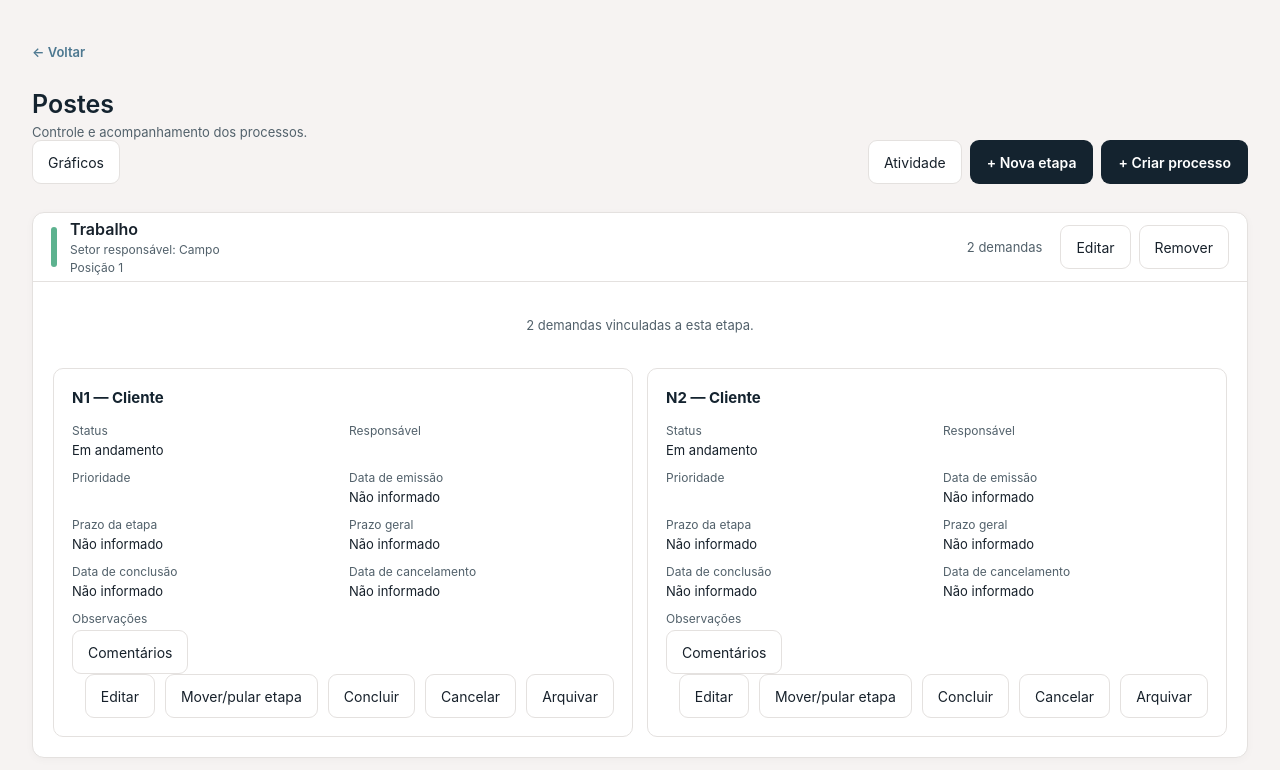
Test: GRAF-04/05/06: ação atualiza totais; conflito oculta os números até nova consulta
The width and height of the screenshot is (1280, 770).
Click the button "Gráficos": (76, 162) top-left (32, 140), bottom-right (120, 184)
(page scrolled)
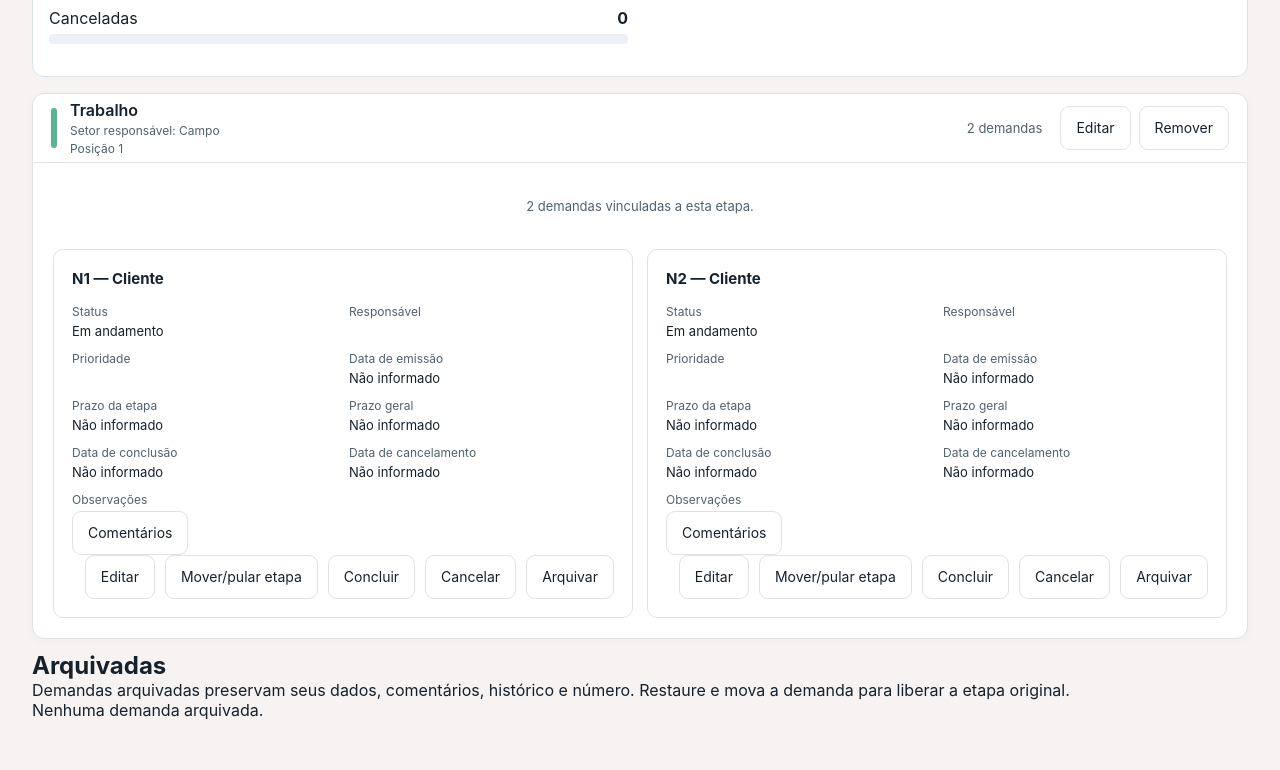
Click the button with aria-label "Arquivar demanda N1": (570, 577) top-left (526, 555), bottom-right (614, 599)
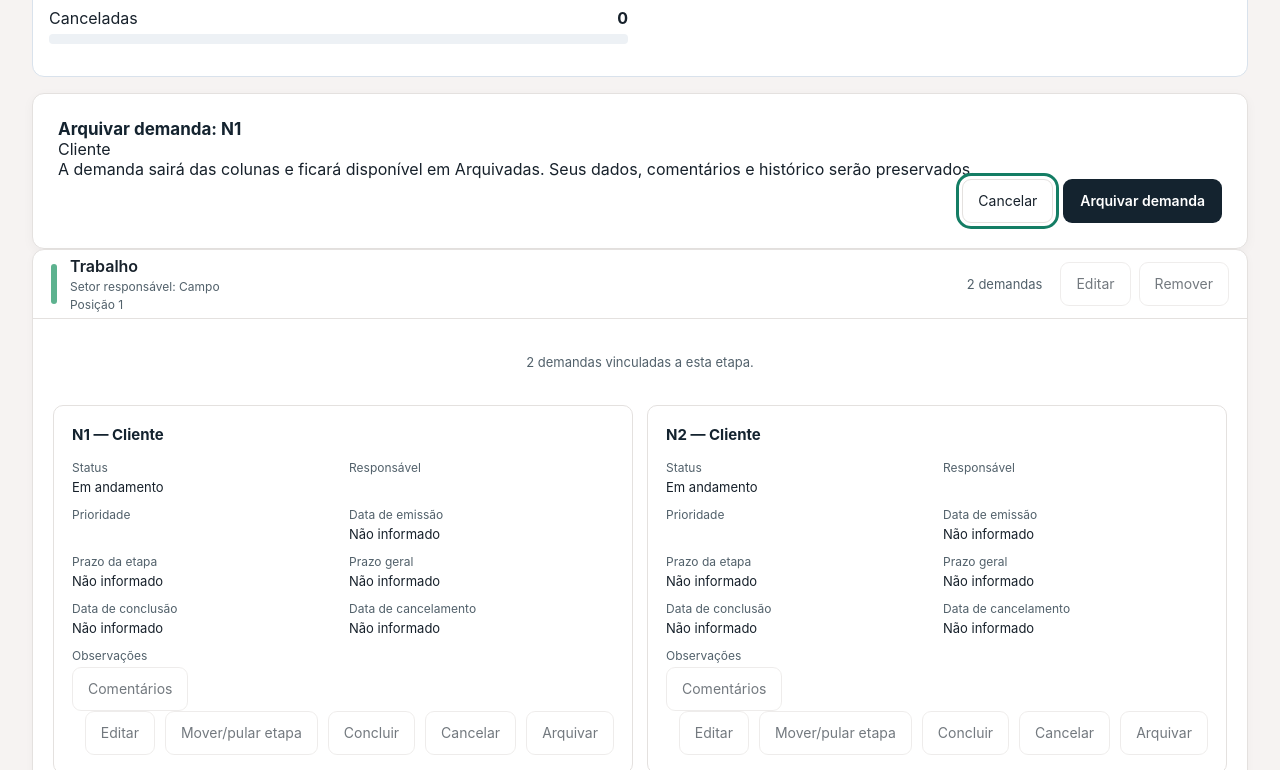
Click the button "Arquivar demanda": (1143, 201) top-left (1063, 179), bottom-right (1222, 223)
(page scrolled)
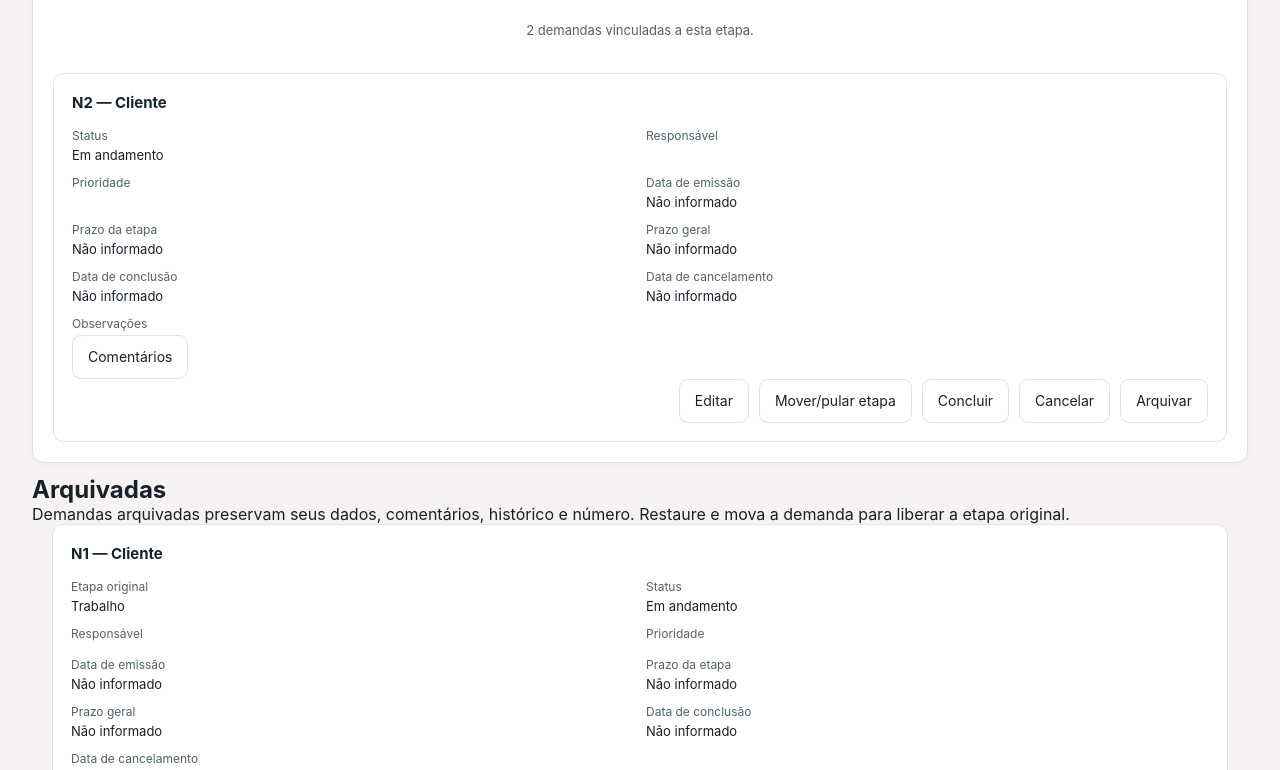
Click the button with aria-label "Arquivar demanda N2": (1164, 401) top-left (1120, 379), bottom-right (1208, 423)
(page scrolled)
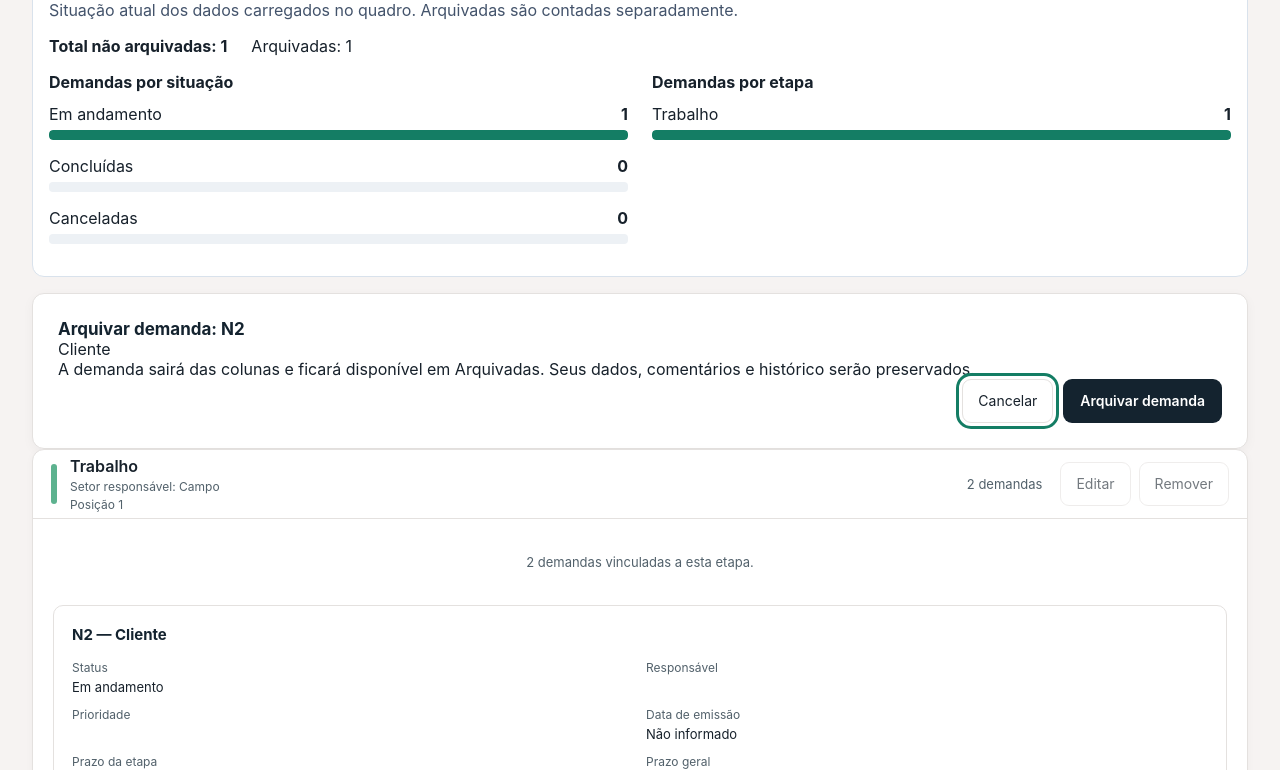
Click the button "Arquivar demanda": (1143, 401) top-left (1063, 379), bottom-right (1222, 423)
(page scrolled)
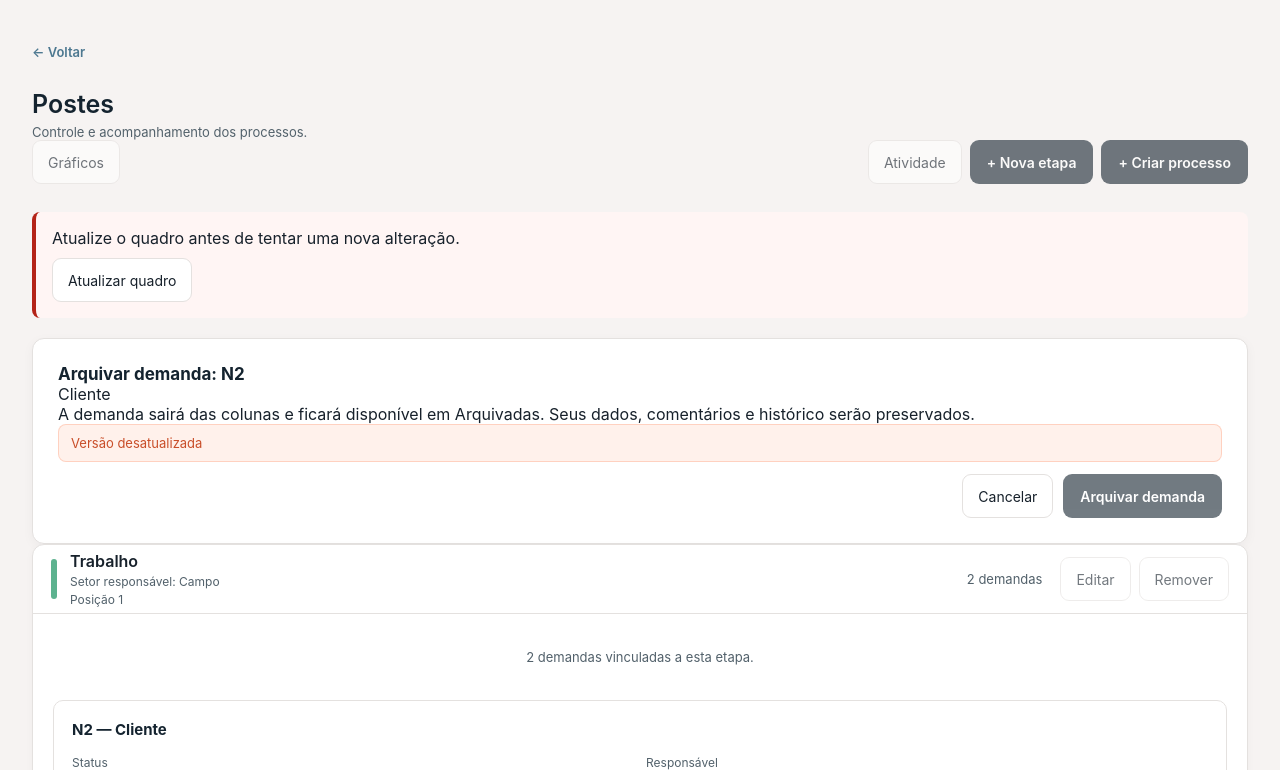
Check: the button "Gráficos" is disabled, box top-left (32, 140), bottom-right (120, 184)
Click the button "Atualizar quadro": (122, 280) top-left (52, 258), bottom-right (192, 302)
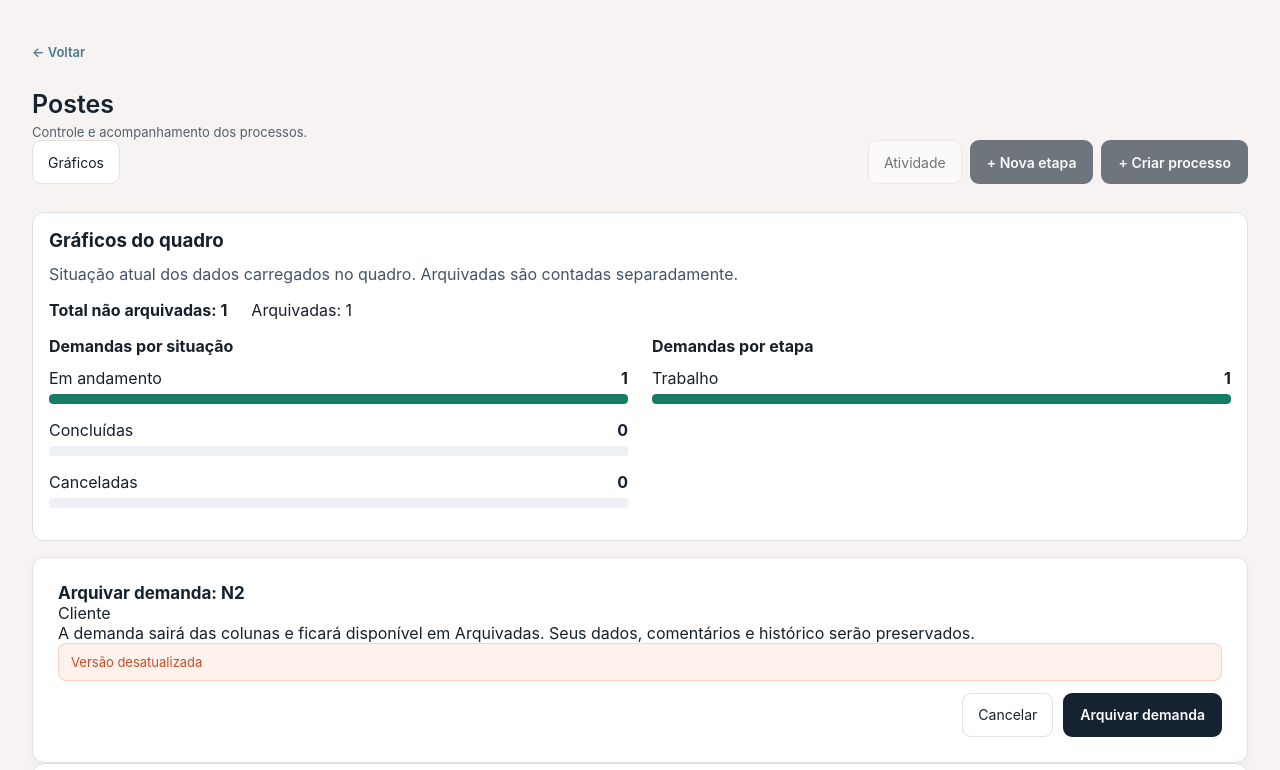
Check: the text "Total não arquivadas: 1" is shown, box top-left (49, 300), bottom-right (227, 320)
